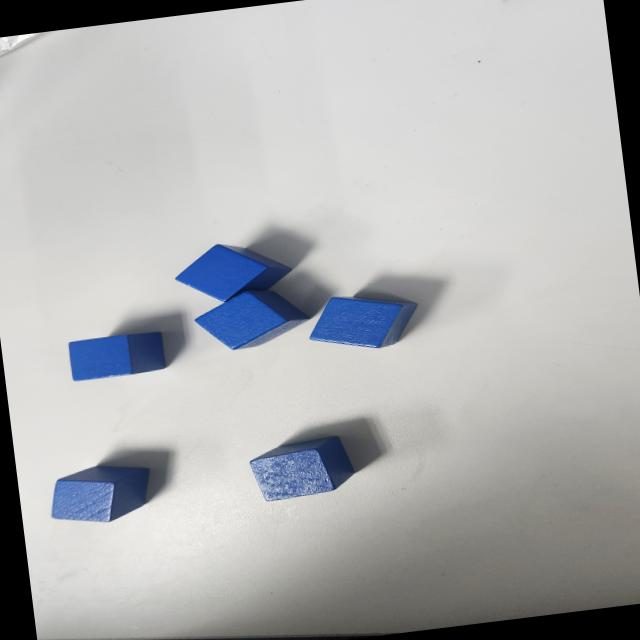blue: (171, 235, 295, 308), (190, 282, 314, 354), (303, 286, 422, 356), (43, 457, 156, 530), (246, 433, 358, 503), (66, 328, 170, 382)
